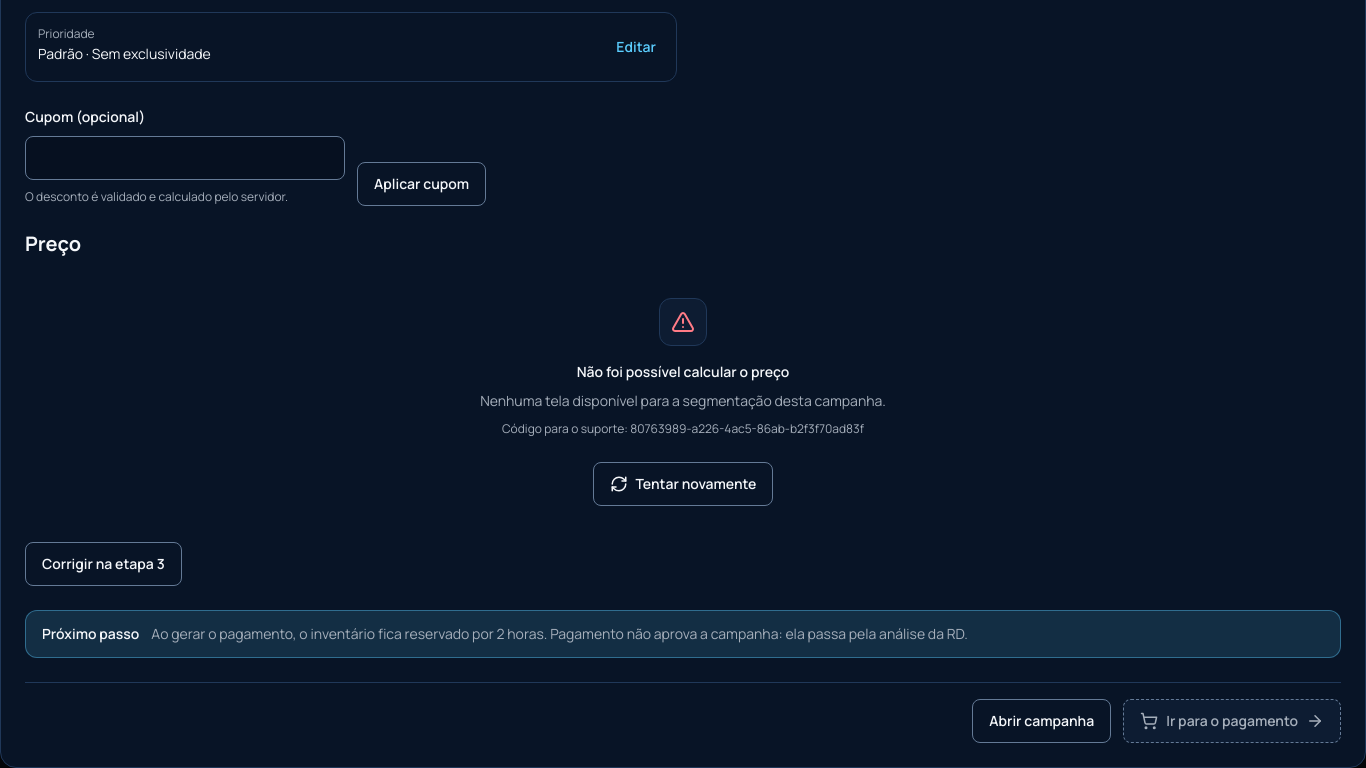
Test case: preço sempre calculado pelo servidor › erro de cotação mostra a mensagem do servidor e leva à etapa a corrigir — nunca um preço local
(page scrolled)
Expected: the text "Nenhuma tela disponível para a segmentação desta campanha." is shown, [480,390,886,412]
Click the button "Corrigir na etapa 3". click: x=103, y=564
box: [25,542,182,586]
(page scrolled)
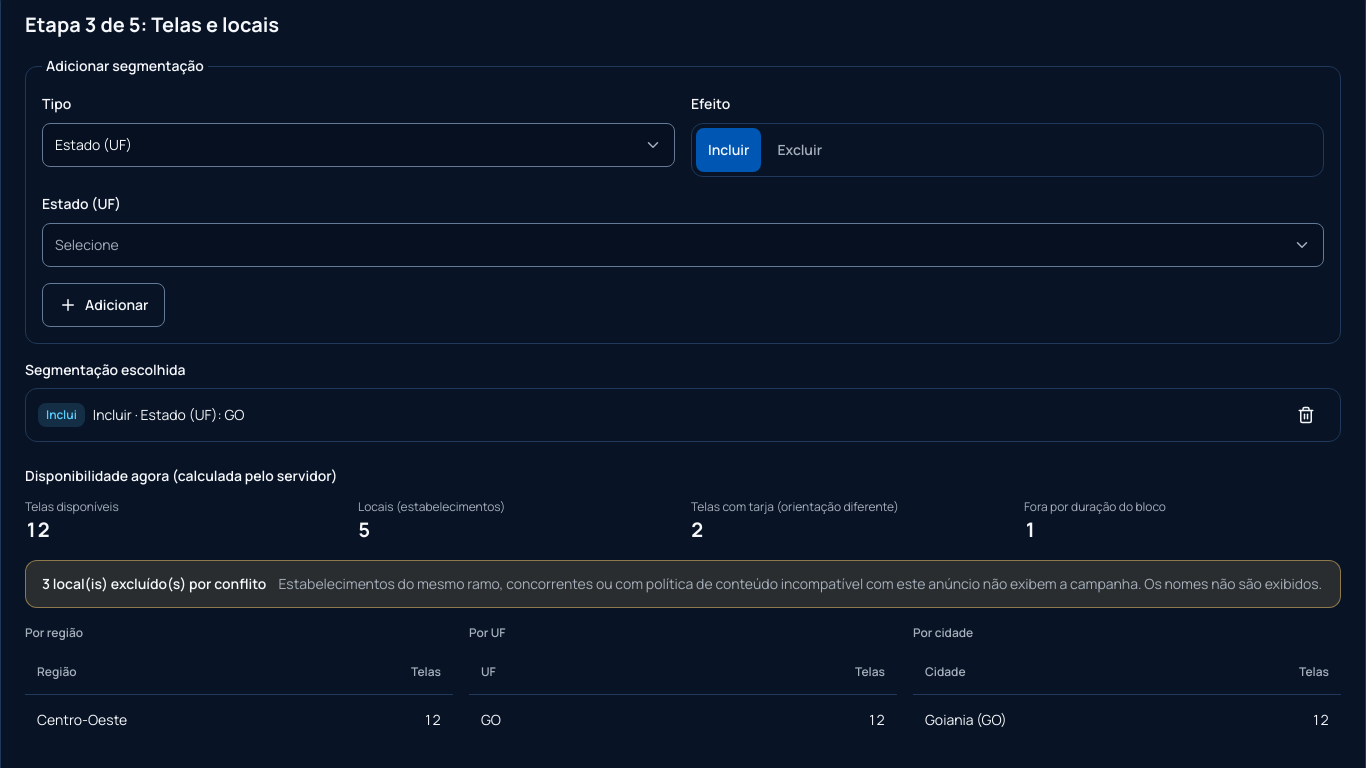
Expected: the heading "Etapa 3 de 5: Telas e locais" is shown, [25,11,279,38]
